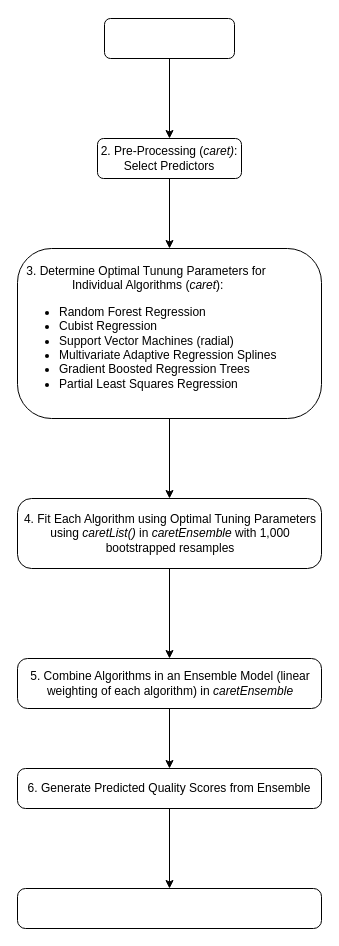
The diagram is 339 pixels wide and 946 high, and some of its shapes have lost their labels. Here are the shapes that lost their labels. From the top down, the centre of each, then its label:
At point (169, 38): "1. Import ReaderBench (.csv) or Coh-Metrix (.csv) output file".
At point (169, 908): "7. Average Scores across the Ensembles to Yield Final Predicted Quality Scores".
